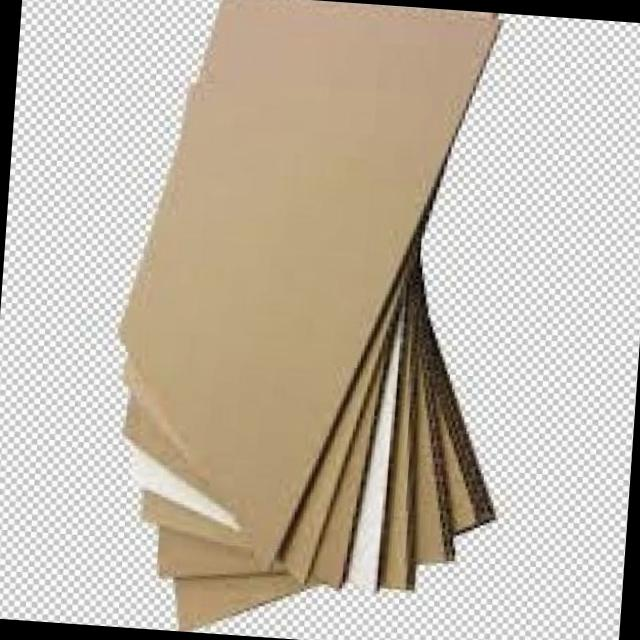cardboard paper: (118, 0, 496, 630)
